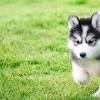Bulldog: (64, 9, 100, 99)
